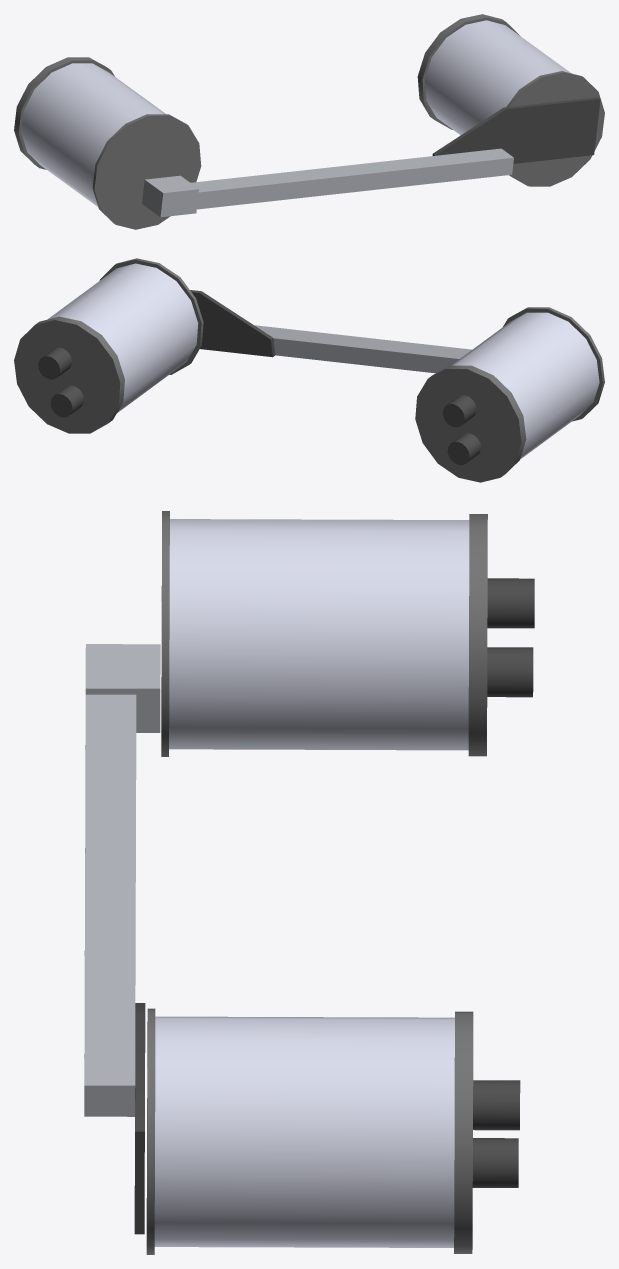
File: SILVER2_Femur.fbx
3 renders of one model, top to bottom at view 1: azimuth 30°, elevation 25°; view 2: azimuth 150°, elevation 25°; view 3: azimuth 270°, elevation 25°, orthographic. The views are drawn at different scales.
Parts seen in each view (by area): view 1: FemurCanister, Femur1, TibiaCanister; view 2: FemurCanister, TibiaCanister, Femur1, TibiaCanisterButton, FemurCanisterButton; view 3: TibiaCanister, FemurCanister, Femur1, FemurCanisterButton, TibiaCanisterButton.
Boxes of the visible parts, x1=… form: FemurCanister: x1=14, y1=57, x2=201, y2=229; Femur1: x1=142, y1=97, x2=600, y2=217; TibiaCanister: x1=417, y1=14, x2=604, y2=186; FemurCanister: x1=415, y1=307, x2=604, y2=482; TibiaCanister: x1=14, y1=258, x2=203, y2=433; Femur1: x1=190, y1=290, x2=471, y2=373; TibiaCanisterButton: x1=50, y1=385, x2=83, y2=417; FemurCanisterButton: x1=447, y1=433, x2=480, y2=465; TibiaCanister: x1=146, y1=1008, x2=520, y2=1254; FemurCanister: x1=161, y1=511, x2=534, y2=756; Femur1: x1=84, y1=644, x2=160, y2=1234; FemurCanisterButton: x1=487, y1=647, x2=533, y2=697; TibiaCanisterButton: x1=472, y1=1138, x2=518, y2=1187.
Bounding box in the file's own units: 2.34 × 0.7295 × 0.9012.
1 material, 1 textured.
